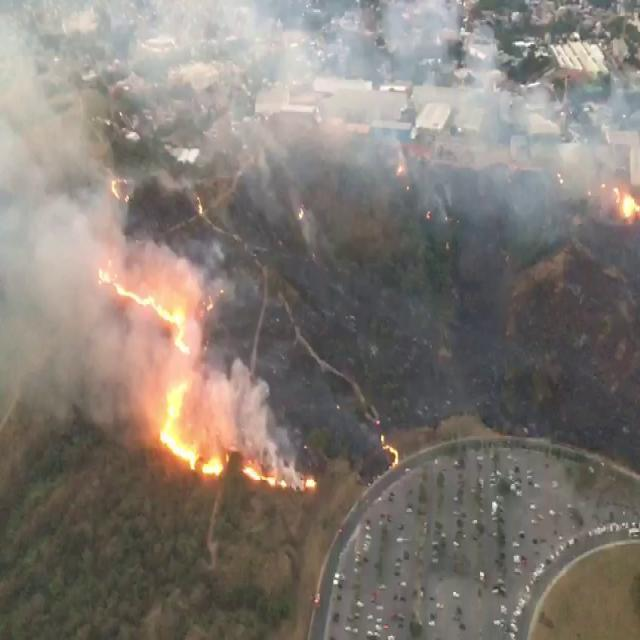Fire: (101, 270, 192, 358), (160, 381, 222, 483), (242, 462, 288, 492), (610, 182, 638, 225), (378, 433, 399, 471), (110, 169, 125, 199), (298, 202, 308, 222), (306, 473, 314, 492), (424, 205, 432, 219), (396, 160, 402, 175)
Smoke: (6, 5, 310, 487), (4, 244, 200, 366), (504, 88, 640, 256), (204, 358, 304, 490), (236, 115, 318, 254), (0, 335, 57, 433), (435, 194, 449, 224), (211, 240, 226, 264), (442, 178, 454, 206)
